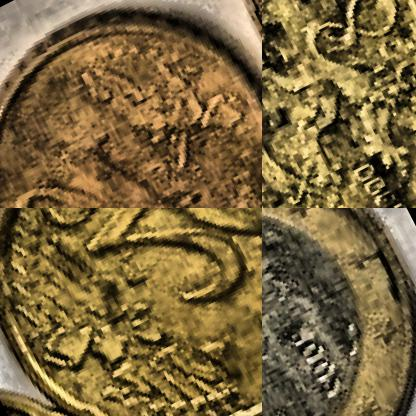coin: (0, 0, 261, 207), (0, 208, 261, 415), (262, 0, 415, 207), (262, 208, 415, 415)
